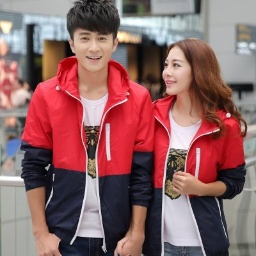face: (160, 39, 237, 122), (64, 1, 123, 72)
